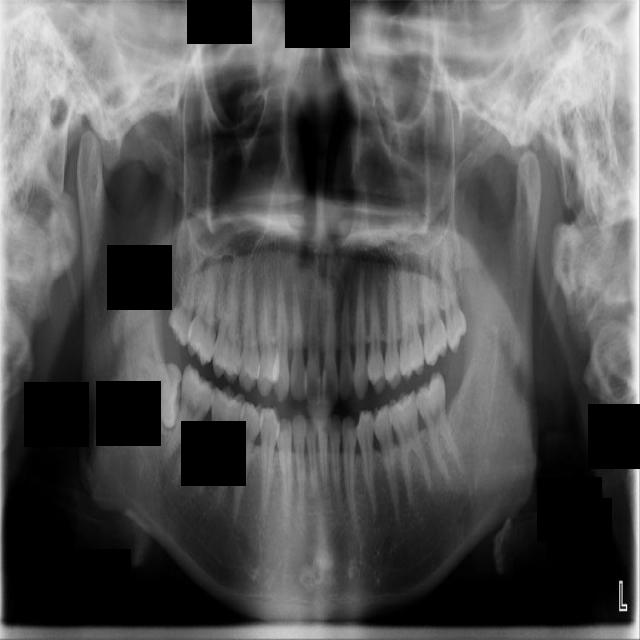3M ESPE Implant: (166, 267, 198, 347)
73: (600, 590, 608, 602)
BioHorizons Implant: (418, 243, 449, 367)
BioLife Implant: (439, 245, 469, 353)
Blue Sky Bio Implant: (412, 371, 458, 471)
Caries: (186, 249, 221, 367)
Implant: (156, 362, 222, 484)
Keystone Dental Implant: (134, 355, 184, 429)
